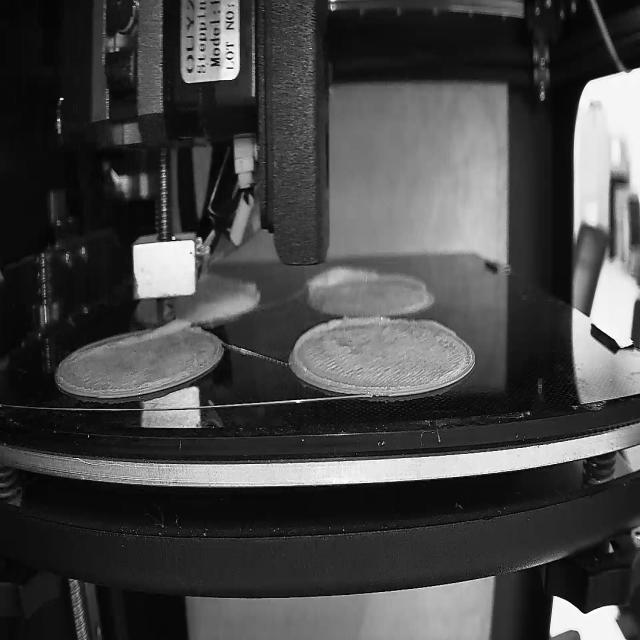over_extrusion: (294, 314, 390, 392), (81, 315, 190, 360), (305, 265, 383, 305), (412, 315, 459, 340), (385, 272, 428, 292)
